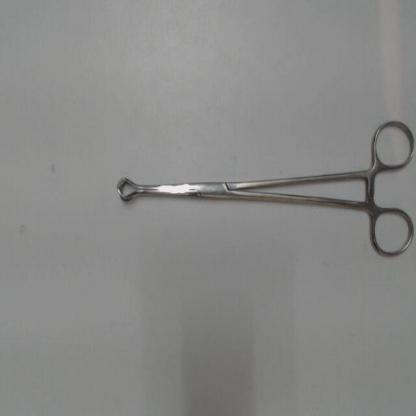8 Babcock Tissue Forceps: (104, 112, 414, 267)
